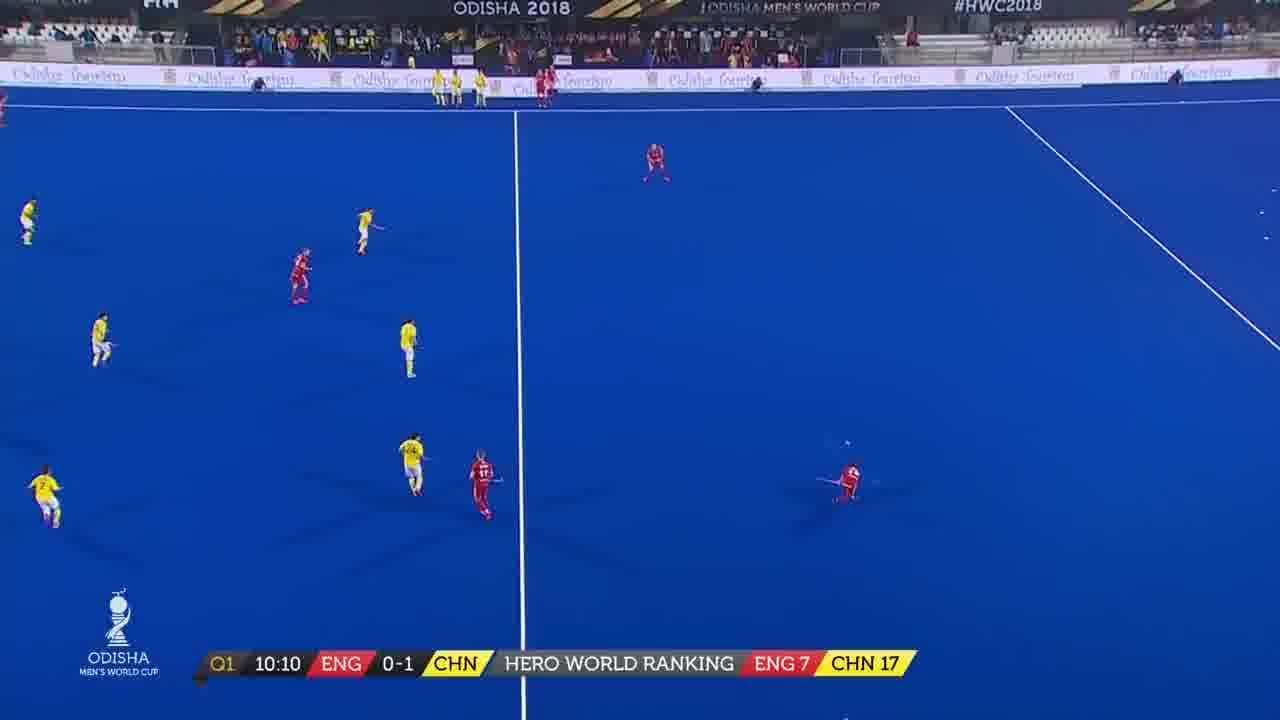ball: (845, 437, 853, 448)
